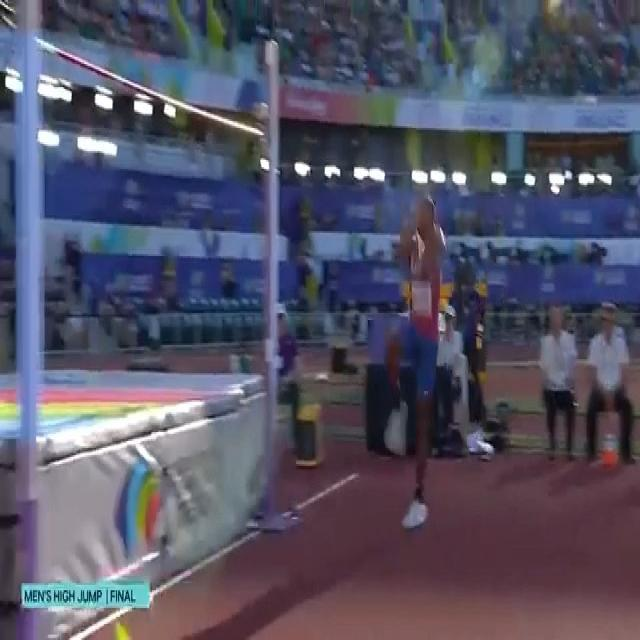land: (383, 197, 446, 529)
